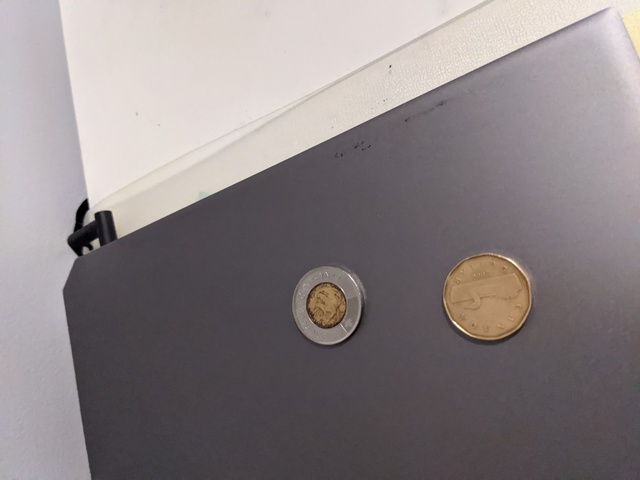loonie: (437, 237, 533, 339)
twonie: (285, 258, 365, 337)
